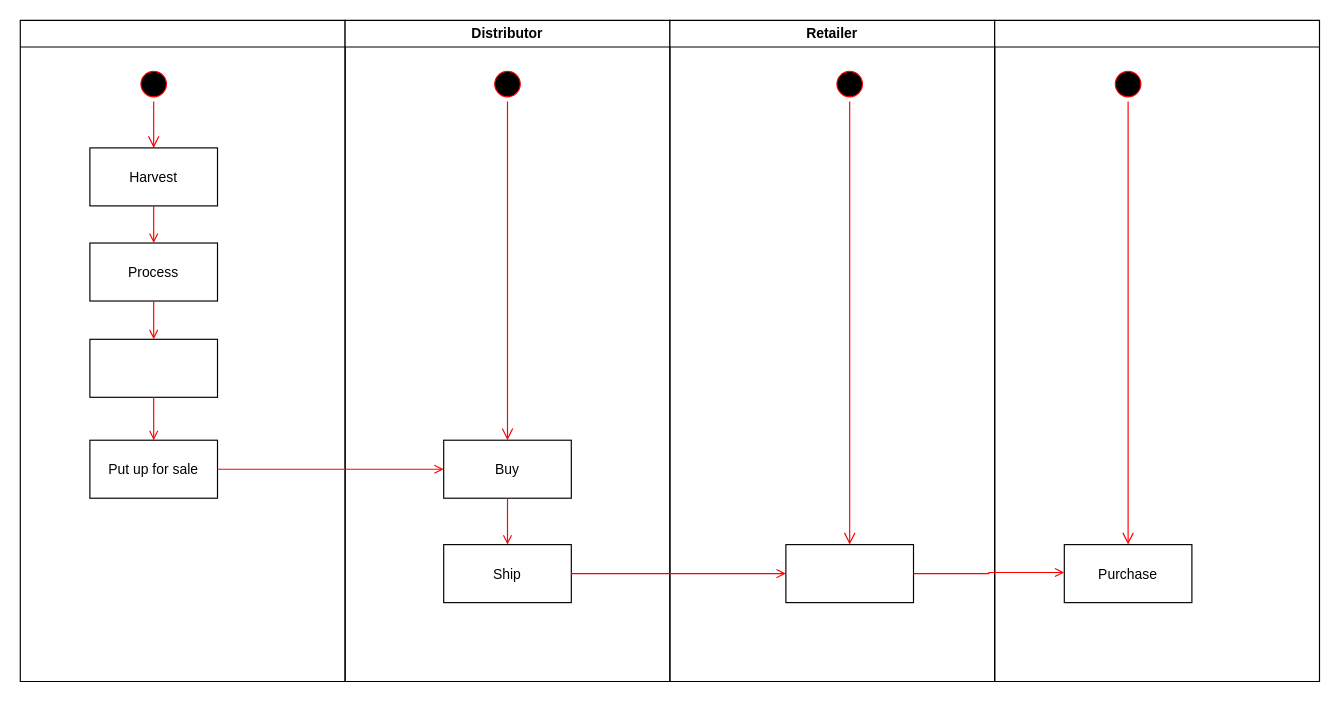
This 1340x702 diagram has some shape labels left out. Here are the shapes that lost their labels. From the top down, the box of each, then its label:
(89, 338, 217, 397): Pack
(19, 19, 345, 682): Farmer
(994, 19, 1320, 682): Consumer
(785, 543, 913, 603): Receive
